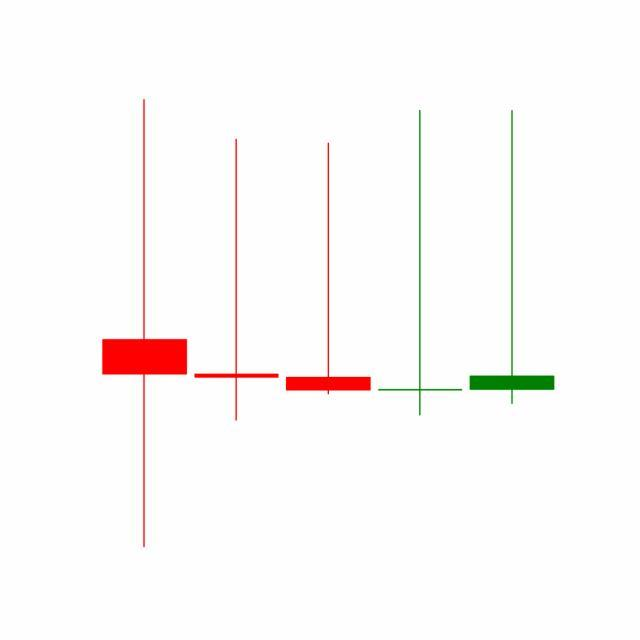Spinning Top: (466, 108, 559, 409)
